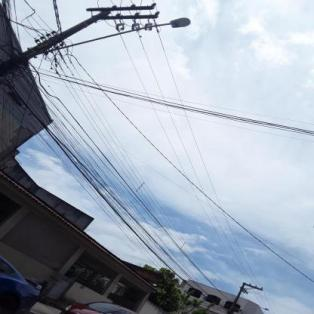Poste: (3, 8, 115, 74)
